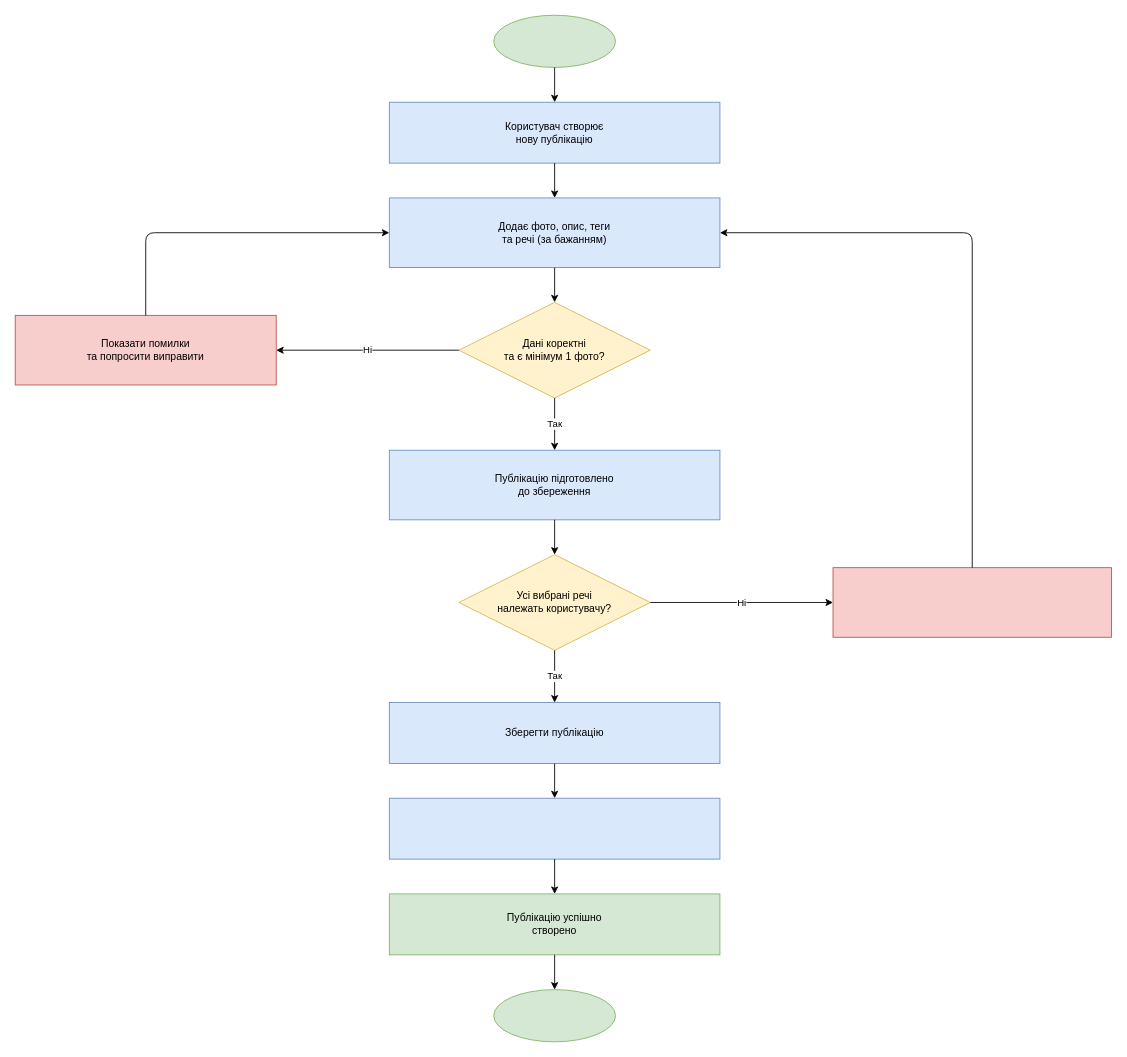
This 1127x1057 diagram has some shape labels left out. Here are the shapes that lost their labels. From the top down, the box of each, then its label:
(493, 14, 616, 67): Початок
(832, 567, 1111, 637): Показати помилку щодо недоступних речей
(388, 797, 720, 859): Оновити стрічки та профіль користувача
(493, 989, 616, 1042): Кінець
